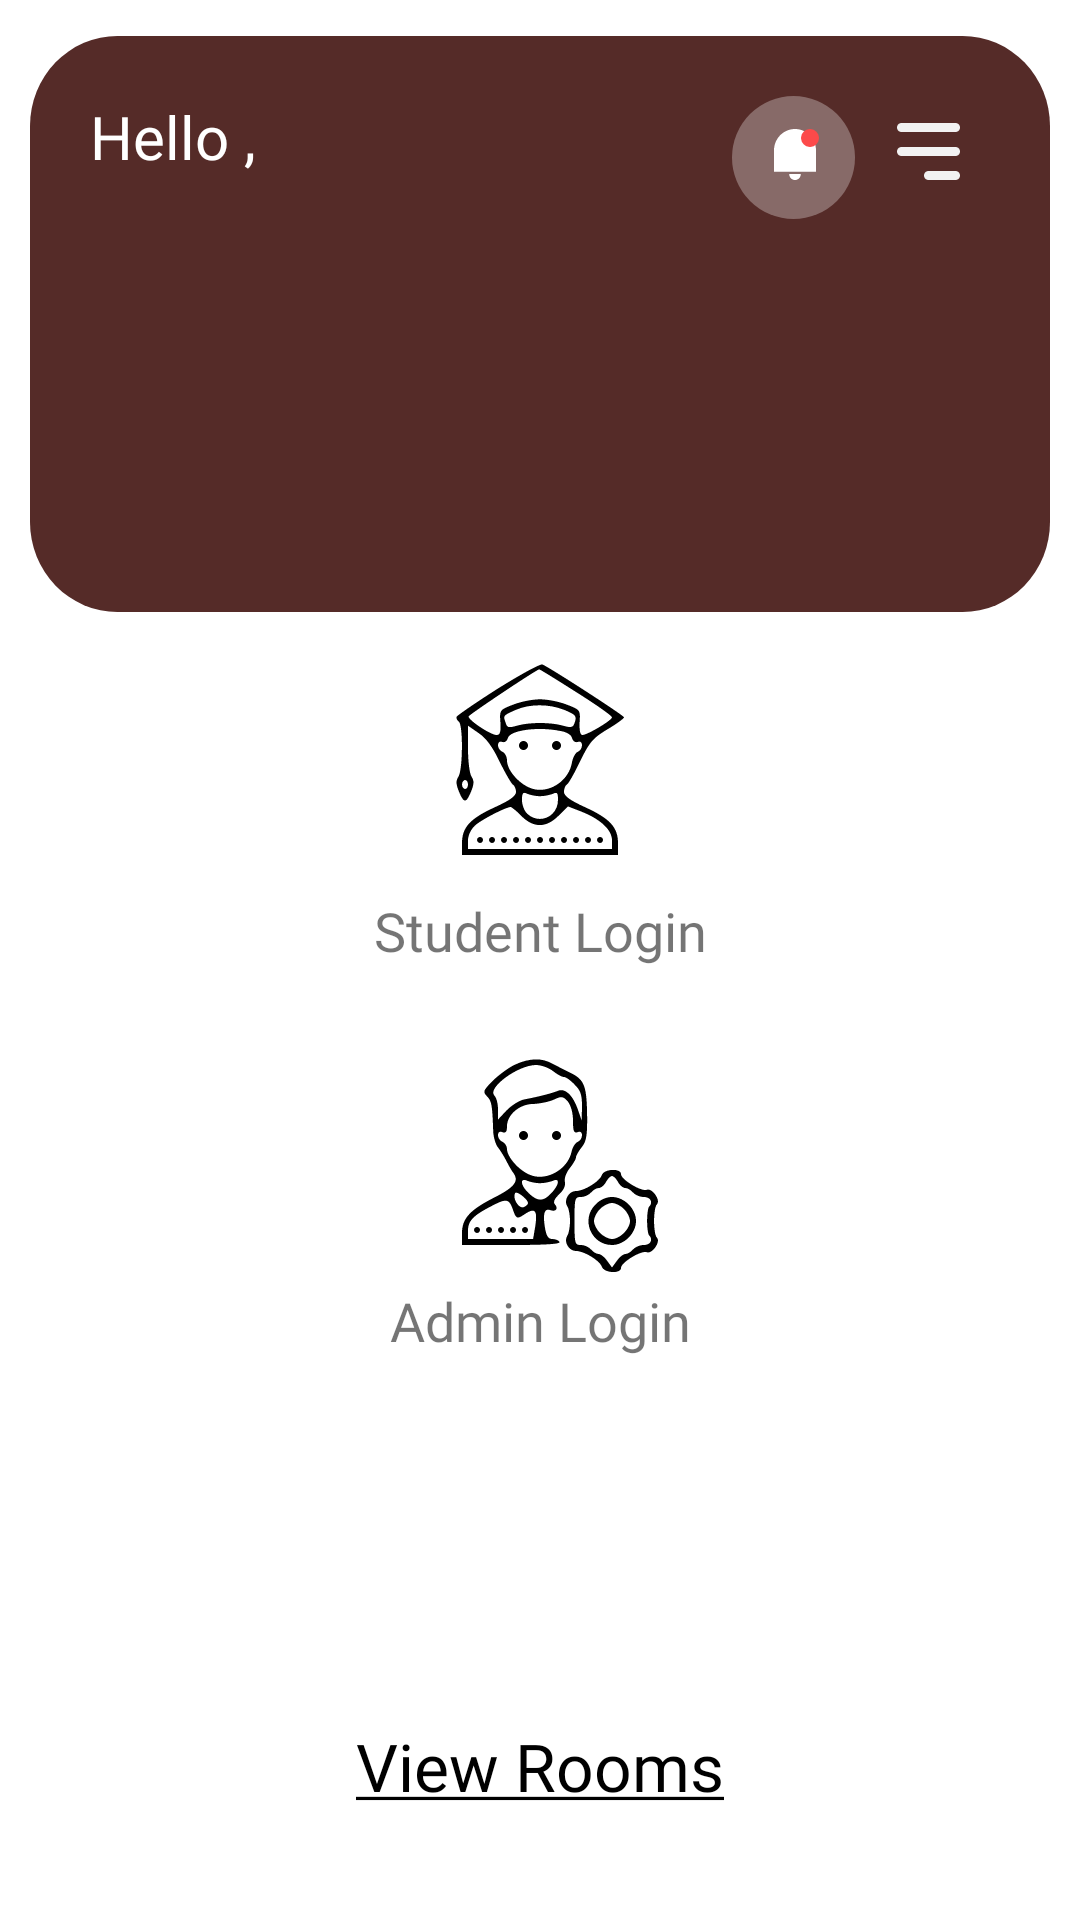

Named icons in this screenshot (1080*1920) and their bounding boxes, (x1, y1, x2, y2):
menu: (897, 123, 960, 180)
notification: (732, 96, 855, 219)
